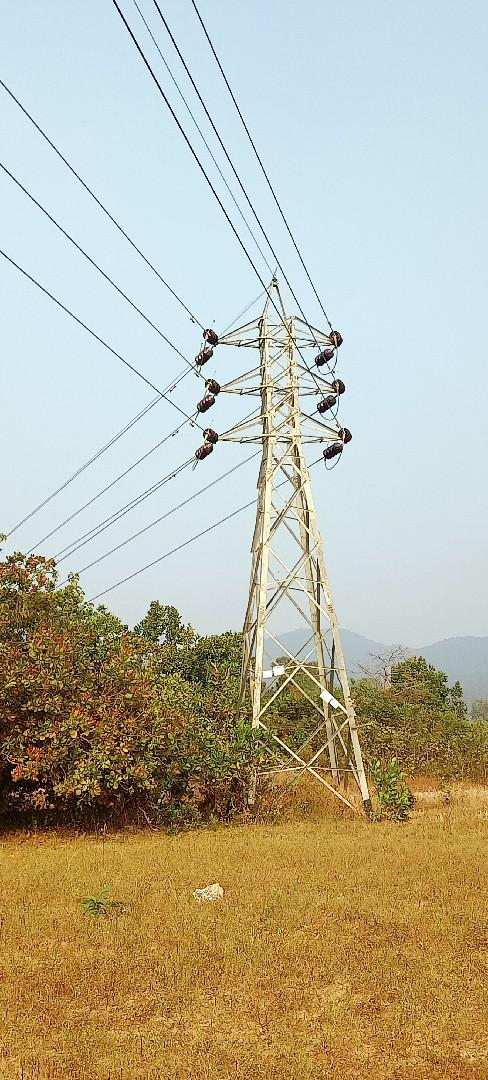GSM Antenna: (196, 273, 361, 676)
